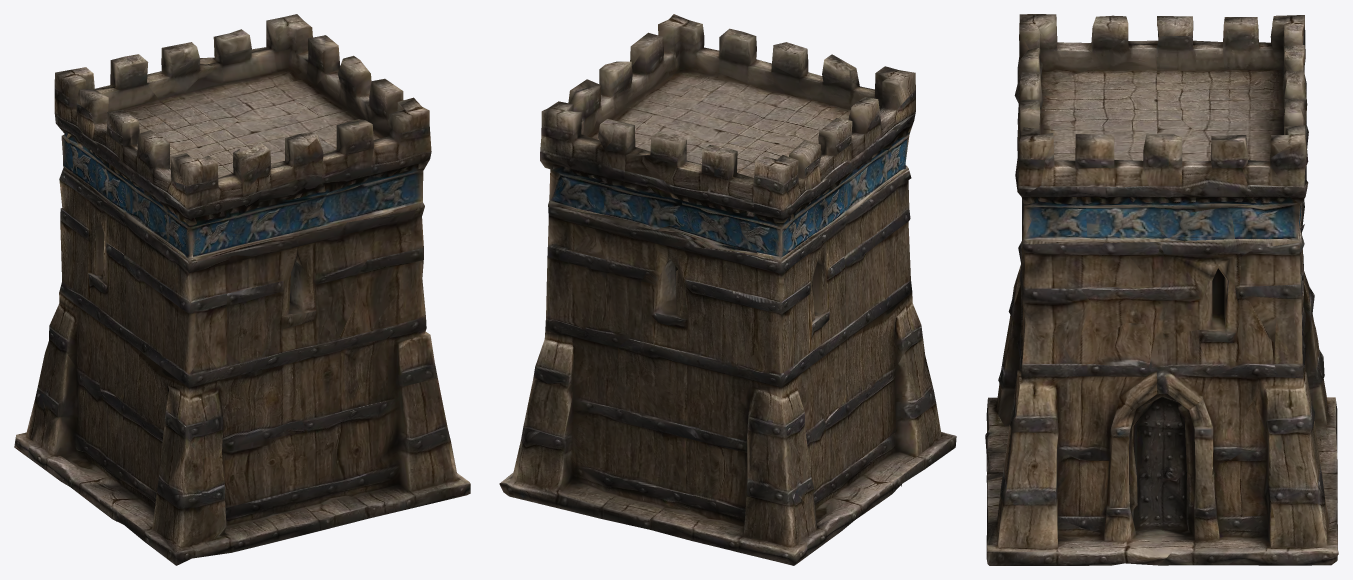
The model's file is castle_tower_short_wood.glb.
The picture shows the model from 3 angles, left to right: view 1: azimuth 30°, elevation 25°; view 2: azimuth 150°, elevation 25°; view 3: azimuth 270°, elevation 25°; orthographic projection. The views are drawn at different scales.
Visible parts, largest first — view 1: tripo_node_a134d02c-2c48-41be-8576-c61c0915f001; view 2: tripo_node_a134d02c-2c48-41be-8576-c61c0915f001; view 3: tripo_node_a134d02c-2c48-41be-8576-c61c0915f001.
Part boxes in pixels (bbox=[...]): tripo_node_a134d02c-2c48-41be-8576-c61c0915f001: bbox=[14, 14, 470, 565]; tripo_node_a134d02c-2c48-41be-8576-c61c0915f001: bbox=[499, 14, 956, 565]; tripo_node_a134d02c-2c48-41be-8576-c61c0915f001: bbox=[985, 14, 1338, 565].
Bounding box in the file's own units: 0.8048 × 0.9798 × 0.7644.
Materials: 1 (1 with a texture image).
